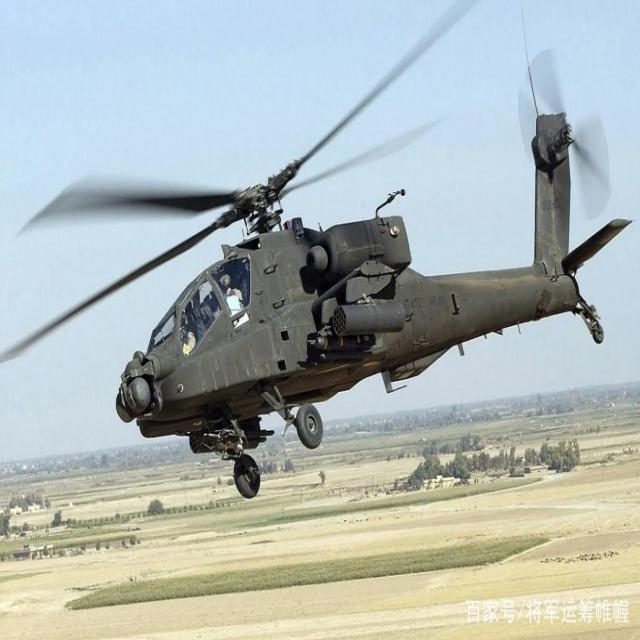MIL_HELO: (7, 0, 640, 505)
